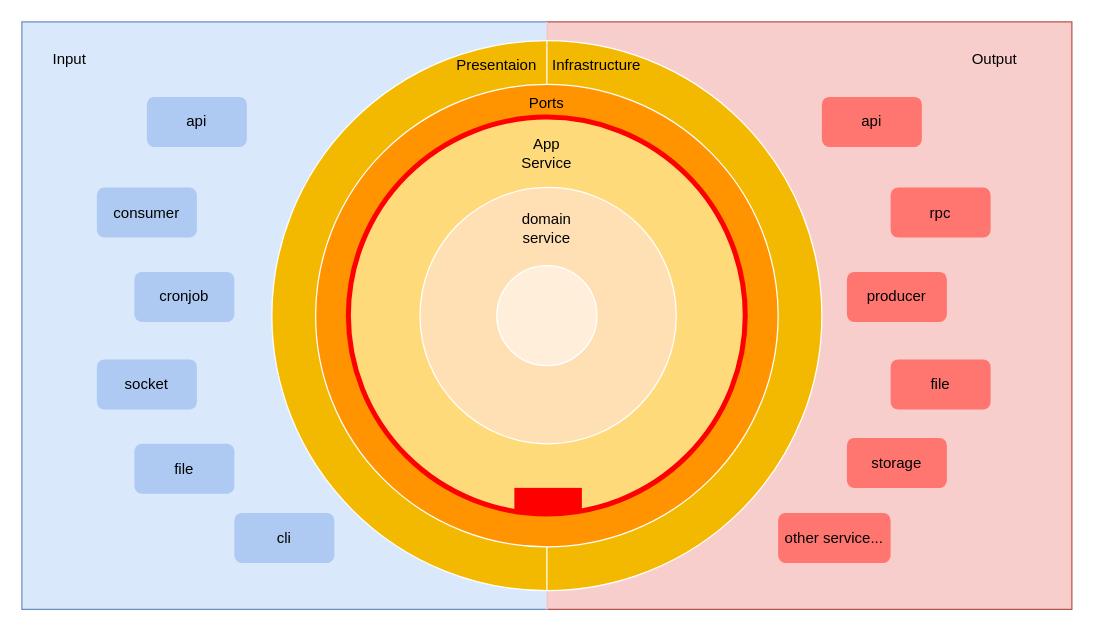
Some shapes in this 1094 by 633 pixel diagram are drawn without their labels. The centre of each missing label's shape, as x and y in pixels:
App Core: the point at 547,499
Model: the point at 546,315
